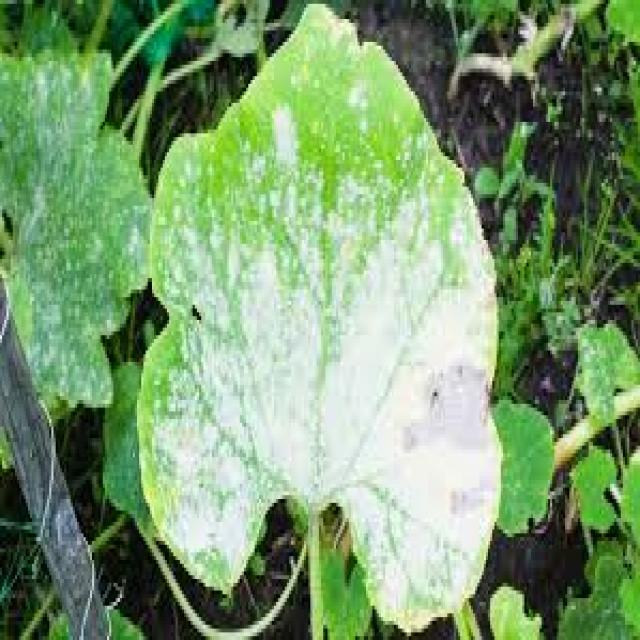powdery-mildew: (188, 244, 521, 545)
